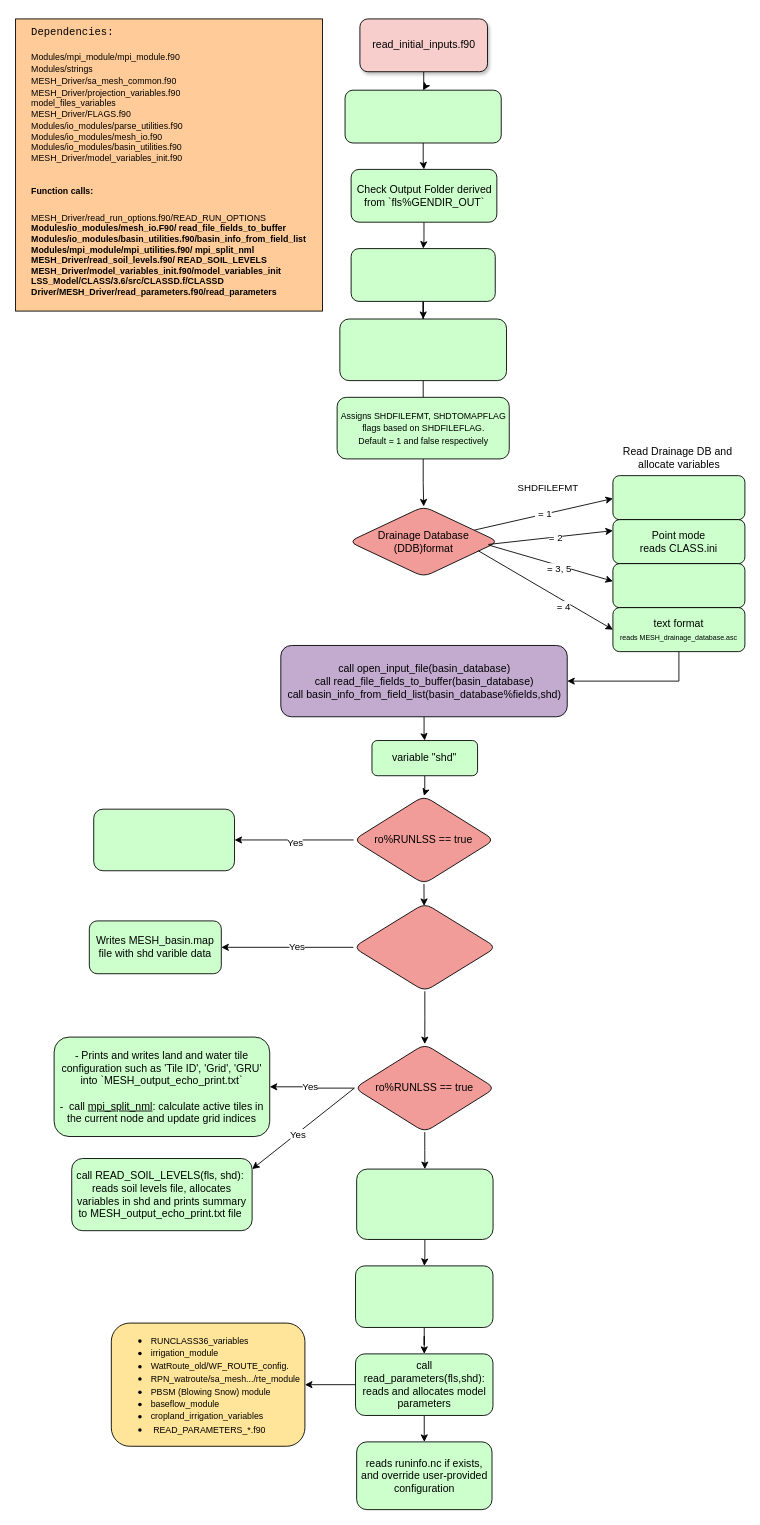
Some shapes in this 760 by 1525 pixel diagram are drawn without their labels. Here are the shapes that lost their labels. From the top down, the centre of each, then its label:
(422,116): Initializing variables and parameters e.g. (fls,shd, basin_database,etc)
(422,274): call READ_RUN_OPTIONS
(423,349): call open_echo_txt: Opens status file ` MESH_output_echo_print.txt`
(678,497): r2c ASCII format reads MESH_drainage_database.r2c
(678,585): NetCDF format reads MESH_drainage_database.nc
(164,839): Populate shd%lc varibles and shd%lc%ACLASS array with tile area weight
(424,946): SHDTOMAPFLAG & ISHEADNODE== true
(424,1203): call model_variables_init(shd): allocates Mesh variables and groups
(424,1296): call CLASSD: initialize constants
